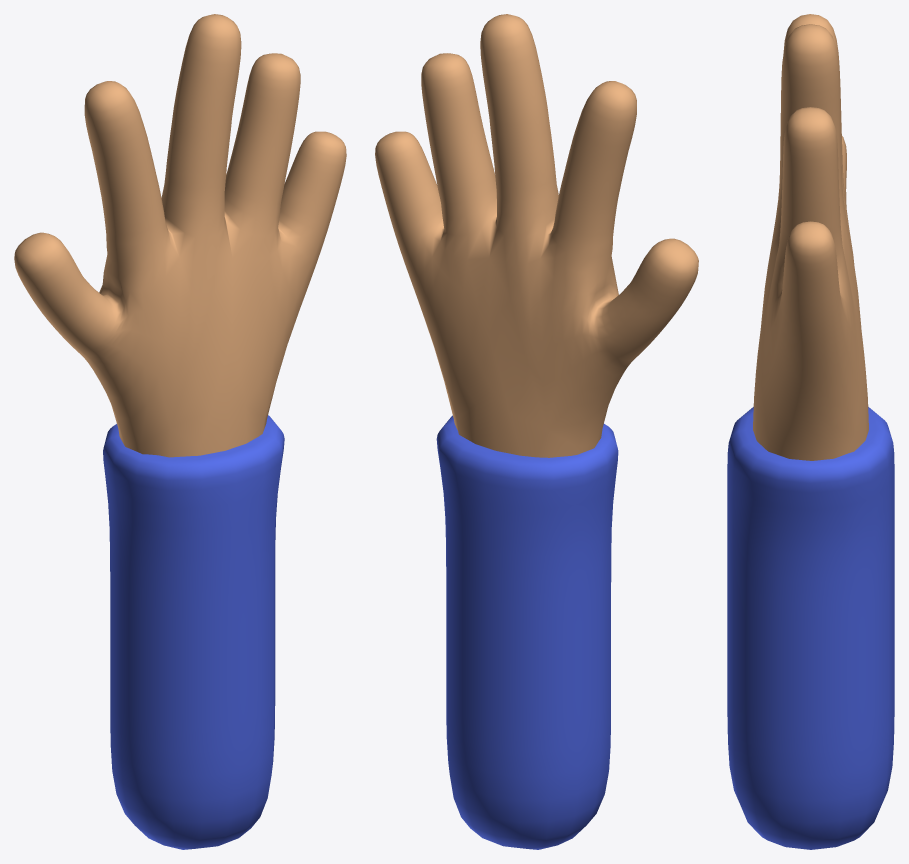
The model's file is paper.glb.
3 views of the same model, side by side, from view 1: azimuth 30°, elevation 25°; view 2: azimuth 150°, elevation 25°; view 3: azimuth 270°, elevation 25° (orthographic).
Visible parts, largest first — view 1: Cube.002, Sleeve.002; view 2: Cube.002, Sleeve.002; view 3: Sleeve.002, Cube.002.
Boxes of the visible parts, left/top/right/bottom form: Cube.002: left=14, top=14, right=346, bottom=457; Sleeve.002: left=103, top=415, right=284, bottom=849; Cube.002: left=375, top=14, right=698, bottom=457; Sleeve.002: left=436, top=415, right=618, bottom=849; Sleeve.002: left=727, top=407, right=894, bottom=849; Cube.002: left=753, top=14, right=868, bottom=460.
Bounding box in the file's own units: 8.56 × 20.84 × 3.83.
